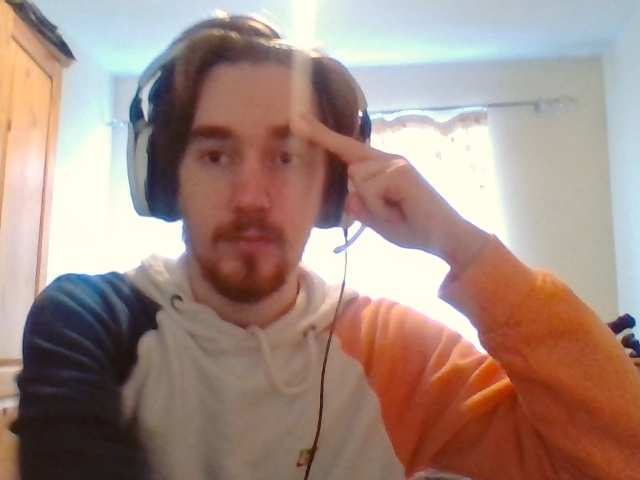name: (291, 113, 411, 232)
